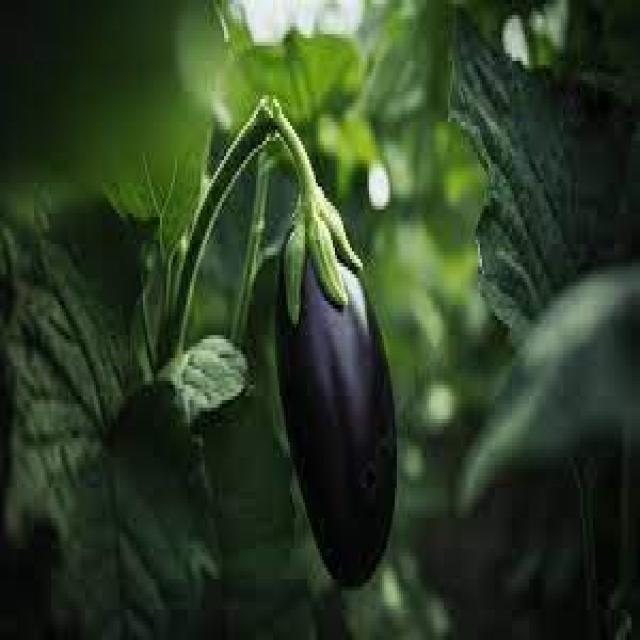Eggplant: (274, 107, 402, 595)
